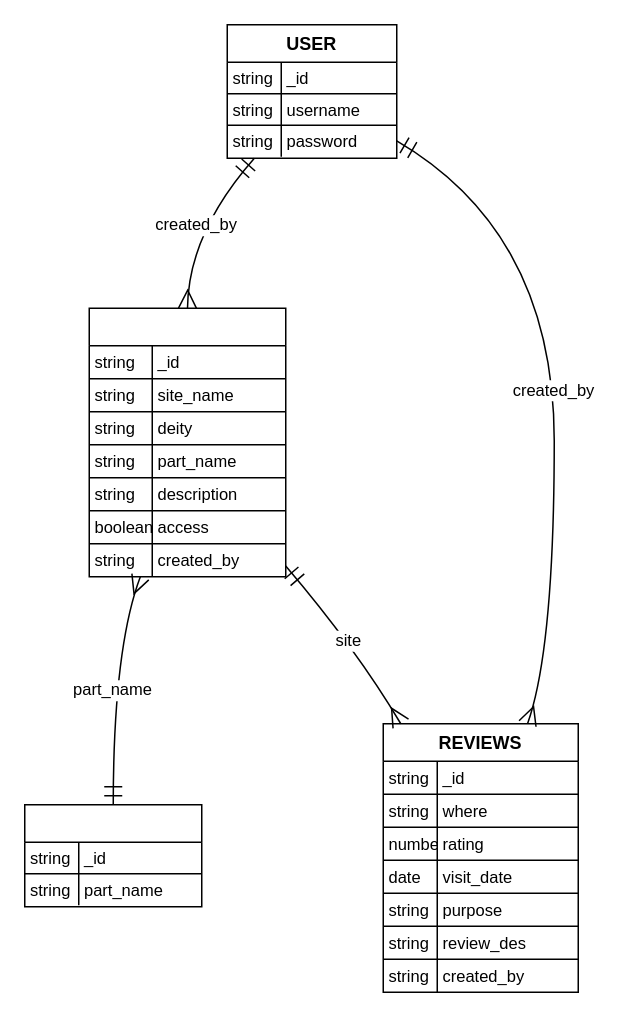
This 623x1017 diagram has some shape labels left out. Each missing label, with the box of its shape:
LOCATIONS: (88, 307, 286, 577)
PARTS: (23, 803, 202, 907)
